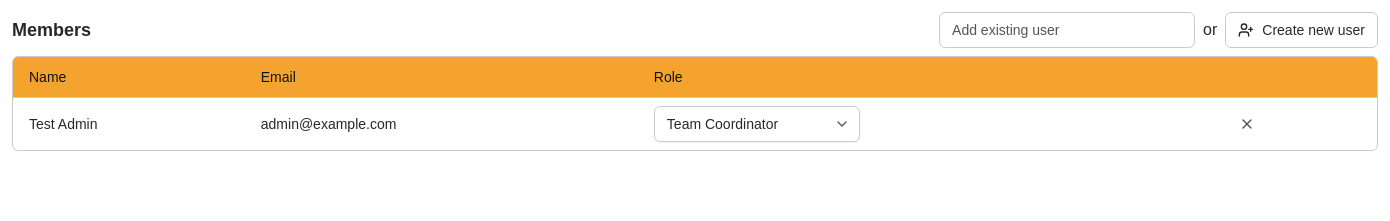
Scenario: MemberEditTable — add existing member › removes a staged existing-member row
The width and height of the screenshot is (1390, 221).
Type "Jamie" into the dropdown with placeholder "Add existing user".
click(1067, 30); type("Jamie")  # box [939, 12, 1195, 48]
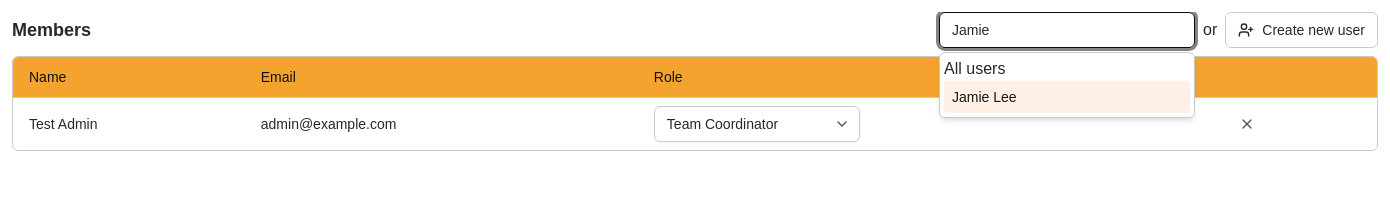
expect the text "Jamie Lee" is shown: met, box [952, 87, 1017, 107]
Click the option "Jamie Lee".
click(1067, 97)  # box [944, 81, 1190, 113]
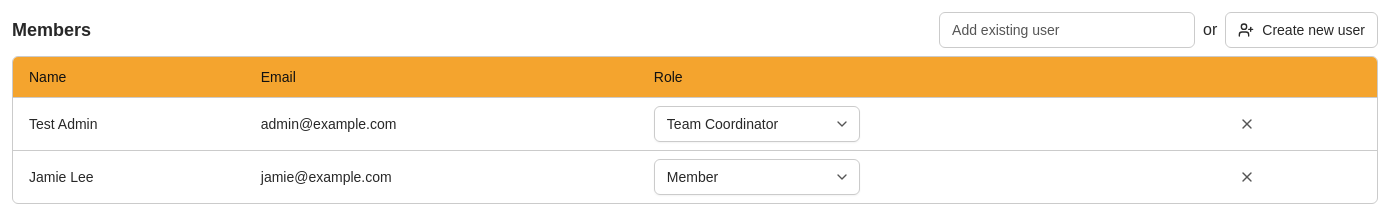
Click the button named "Remove Jamie Lee from team".
click(1247, 176)  # box [1229, 160, 1265, 192]
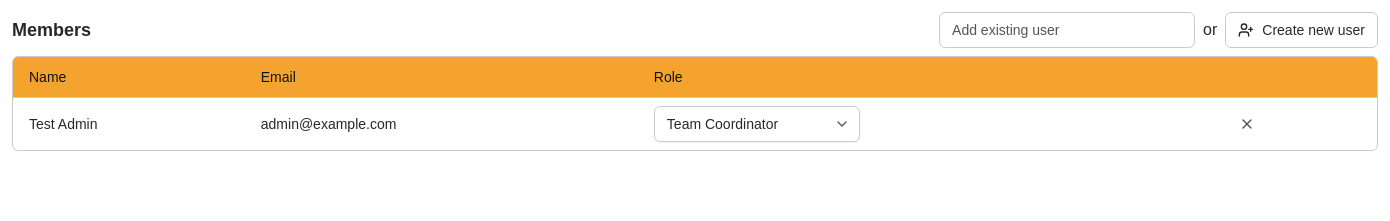
expect the text "Jamie Lee" is gone: met
